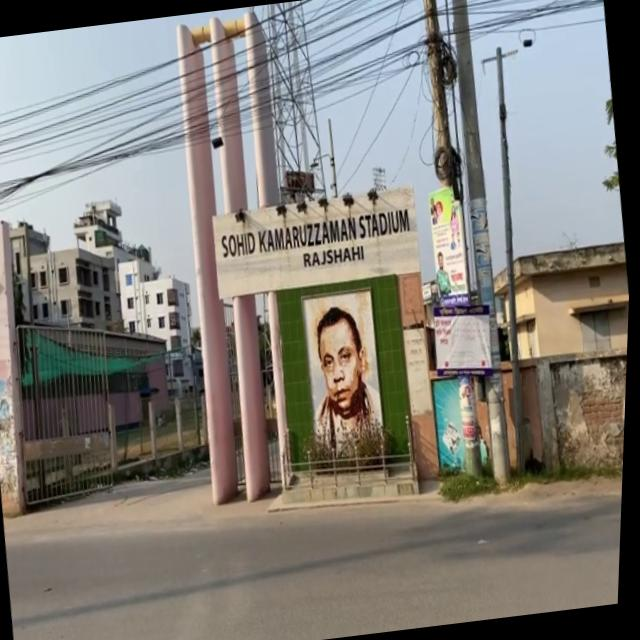Construction-barrier: (267, 445, 627, 541), (23, 440, 214, 506), (266, 456, 425, 516), (269, 484, 447, 520)
Garbage: (202, 182, 454, 518)
Garbage-bin: (300, 300, 393, 460), (434, 250, 455, 296)
Light-pole: (156, 19, 259, 504), (190, 14, 291, 502), (431, 0, 529, 486), (225, 8, 323, 490), (467, 46, 554, 475)
